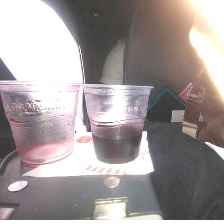glass: (0, 74, 81, 170), (79, 79, 157, 167)
